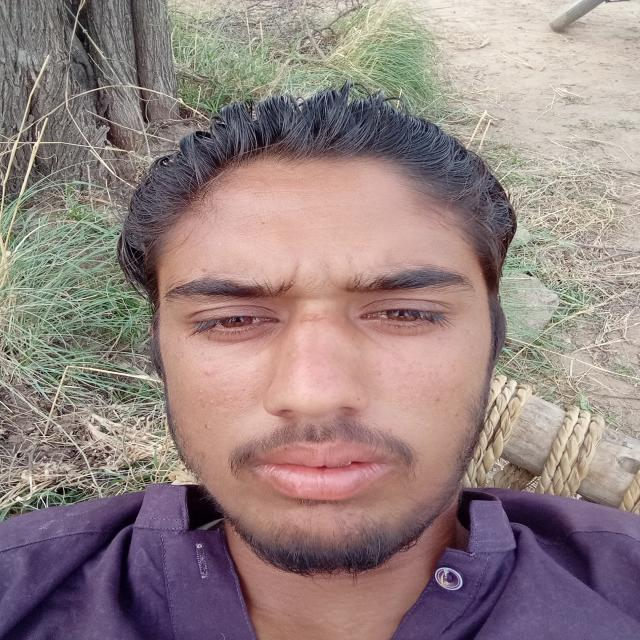Acne: (202, 368, 212, 379), (188, 400, 200, 408), (202, 424, 214, 429), (197, 388, 207, 394), (196, 398, 206, 400)
Englarged-Pores: (378, 359, 465, 420), (202, 376, 266, 412)
Wrinkles: (319, 258, 342, 288), (290, 255, 307, 286)
